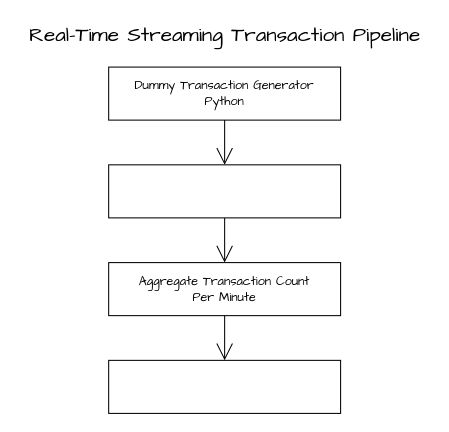
This 449x432 diagram has some shape labels left out. The box of each missing label's shape, as (x1, y1, x2, y2) in pixels:
Console Output Transactions: N / minute: (108, 359, 341, 413)
Python Stream Continuous Event Loop: (108, 164, 341, 218)
